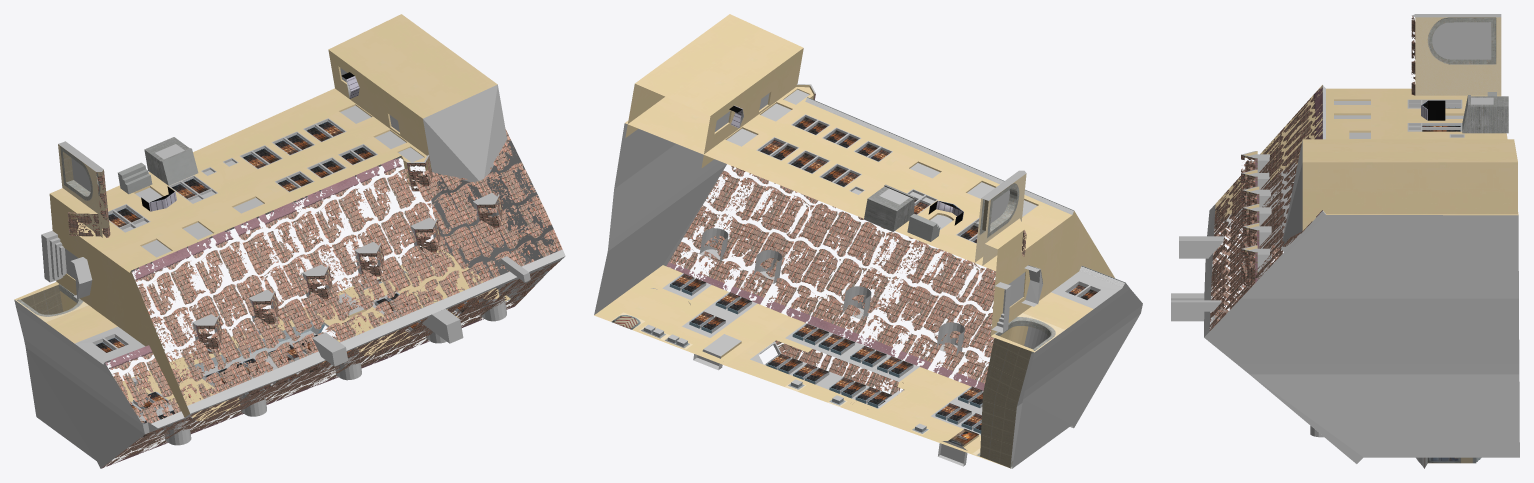
The model's file is Apteegi_1.obj.
The picture shows the model from 3 angles, left to right: view 1: azimuth 30°, elevation 25°; view 2: azimuth 150°, elevation 25°; view 3: azimuth 270°, elevation 25°; orthographic projection. The views are drawn at different scales.
Visible parts, largest first — view 1: Apteegi_1; view 2: Apteegi_1; view 3: Apteegi_1.
Boxes of the visible parts, bbox=[...] form: Apteegi_1: bbox=[14, 14, 565, 468]; Apteegi_1: bbox=[594, 14, 1142, 468]; Apteegi_1: bbox=[1171, 14, 1519, 468].
Bounding box in the file's own units: 30.73 × 21 × 18.93.
